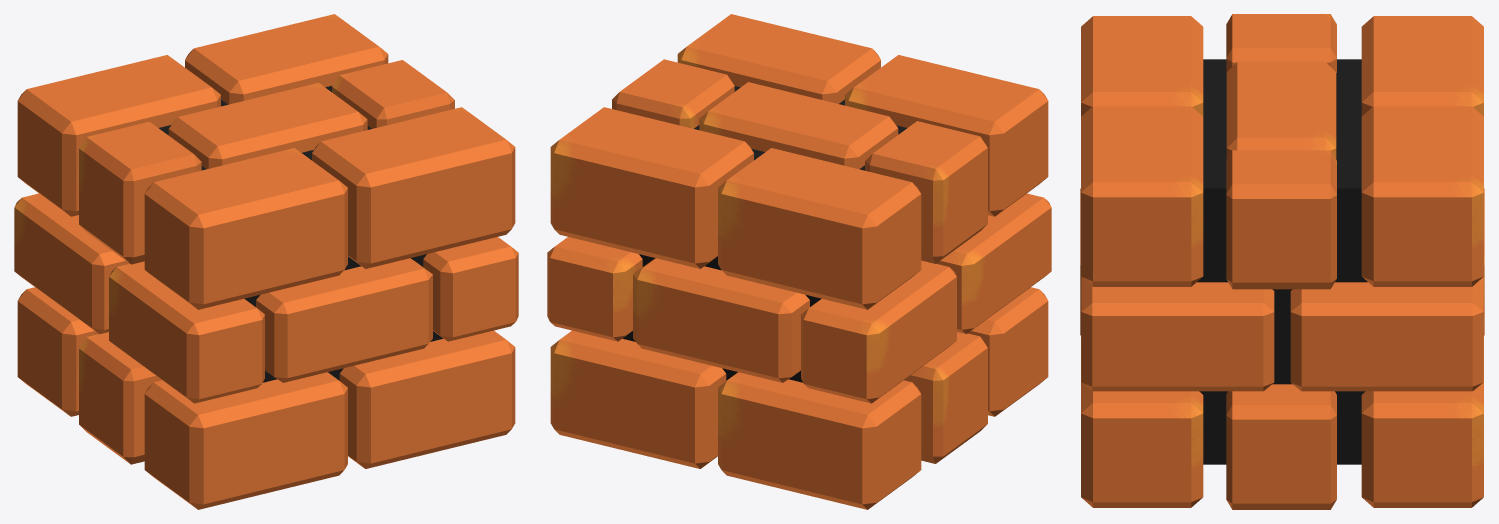
File: fbx_mario_brick.fbx
3 renders of one model, left to right at view 1: azimuth 30°, elevation 25°; view 2: azimuth 150°, elevation 25°; view 3: azimuth 270°, elevation 25°, orthographic. The views are drawn at different scales.
Parts seen in each view (by area): view 1: pCube3; view 2: pCube3; view 3: pCube3.
Boxes of the visible parts, box(x1,y1,x2,y2) form: pCube3: box(14, 14, 518, 509); pCube3: box(547, 14, 1051, 509); pCube3: box(1080, 14, 1484, 509).
Bounding box in the file's own units: 27.79 × 23.6 × 26.55.
